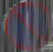No waiting: (6, 3, 52, 50)
